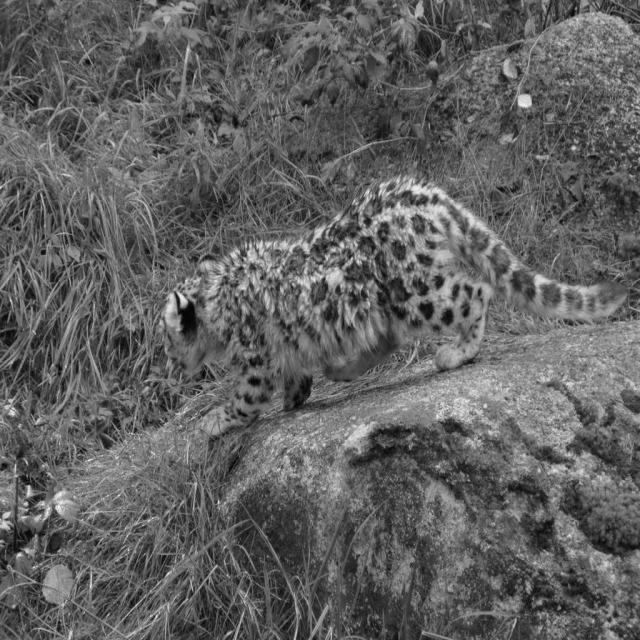Leopard: (158, 172, 627, 439)
